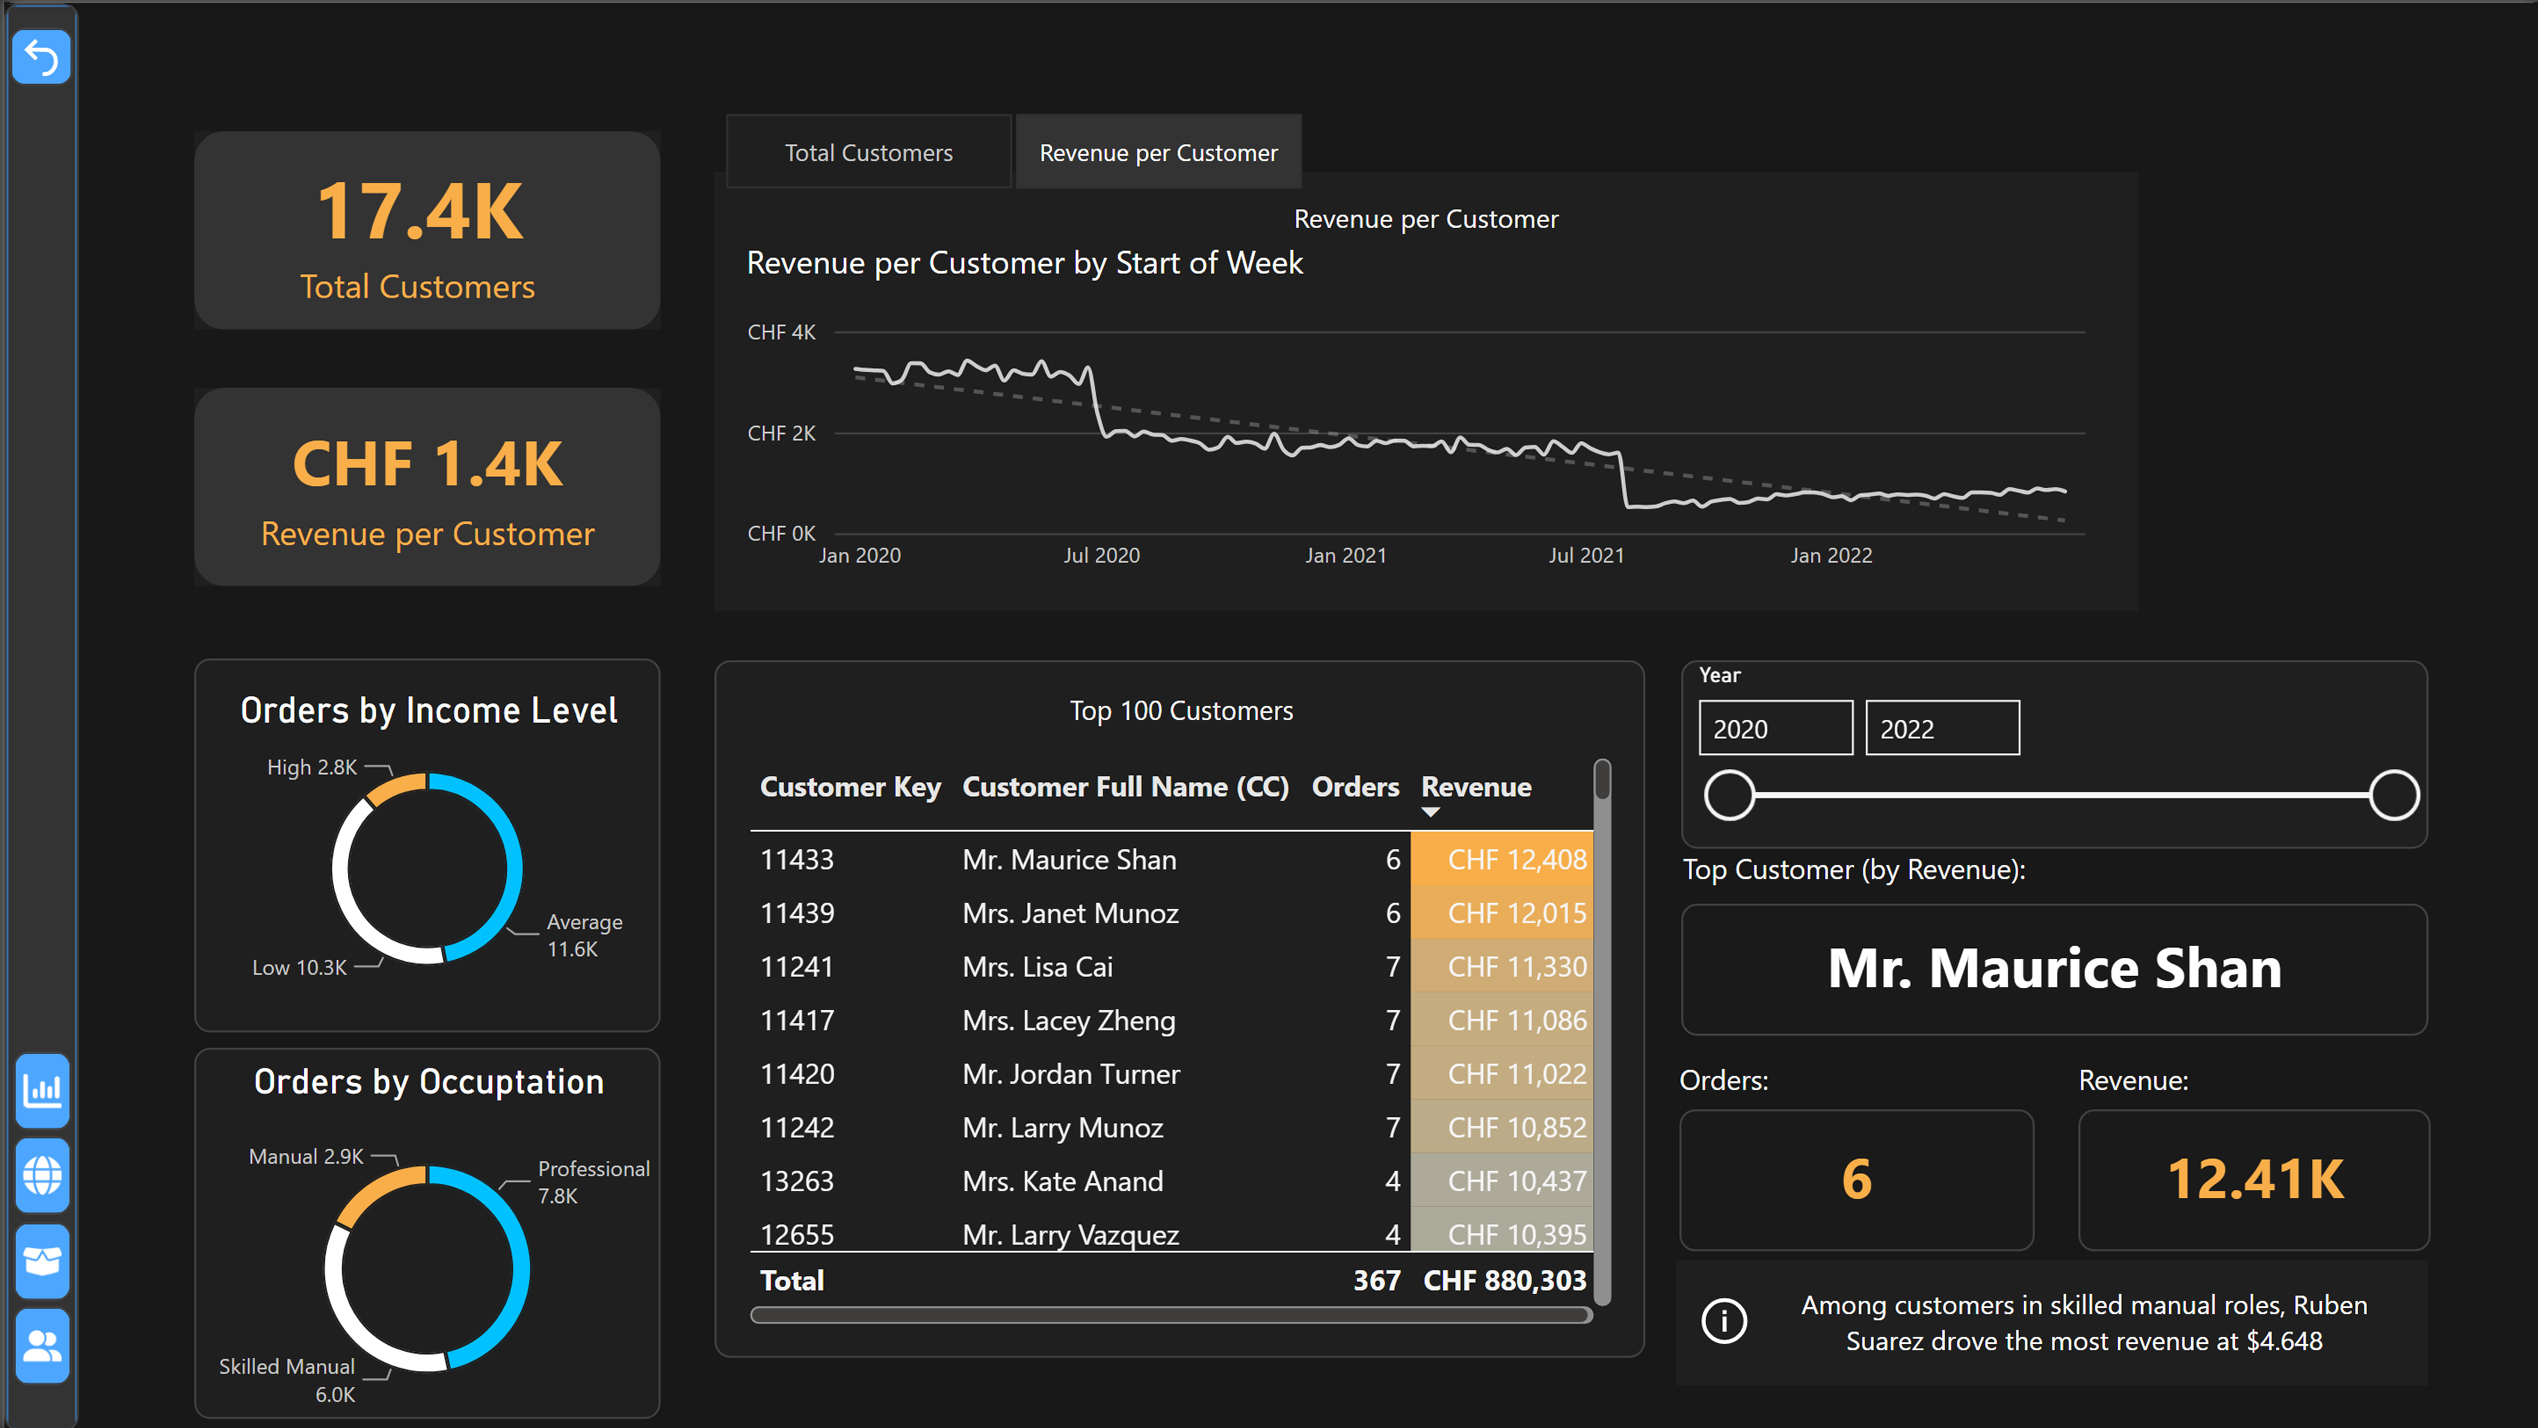

The page's visual inventory and layout, read from the dashboard file:
{"tool":"powerbi","page":{"name":"Customer Detail","canvas":[1280,720],"ordinal":3},"visuals":[{"type":"shape","title":"1. Card","box":[95.7,64.9,235,100],"z":0},{"type":"actionButton","box":[4.7,527.8,29.6,39.8],"z":0,"group":"g1"},{"type":"shape","title":"2. Card","box":[95.7,193.6,235,100],"z":1000},{"type":"actionButton","box":[4.7,570.6,29.6,39.8],"z":1000,"group":"g1"},{"type":"card","fields":{"Values":["Measure Table.Total Customers"]},"box":[106,65,204,100],"z":2000},{"type":"actionButton","box":[4.7,613.5,29.6,39.8],"z":2000,"group":"g1"},{"type":"card","fields":{"Values":["Measure Table.Average Revenue per Customer"]},"box":[95.7,179.7,235,126.6],"z":3000},{"type":"actionButton","box":[4.7,656.3,29.6,39.8],"z":3000,"group":"g1"},{"type":"lineChart","fields":{"Category":["Calendar Lookup.Date Hierarchy.Start of Year","Calendar Lookup.Date Hierarchy.Start of Month","Calendar Lookup.Date Hierarchy.Start of Week","Calendar Lookup.Date Hierarchy.Date"],"Y":["Measure Table.Average Revenue per Customer"]},"box":[357.5,85,717.5,221.2],"z":4000},{"type":"donutChart","title":"Orders by Income Level","fields":{"Category":["Customer Lookup.Income Level"],"Y":["Measure Table.Total Orders"]},"box":[95.7,330.8,235,188.2],"z":5000},{"type":"donutChart","title":"Orders by Occuptation","fields":{"Category":["Customer Lookup.Occupation"],"Y":["Measure Table.Total Orders"]},"box":[95.7,526.4,235,187.2],"z":6000},{"type":"tableEx","title":"Top 100 Customers","fields":{"Values":["Customer Lookup.CustomerKey","Customer Lookup.Customer Full Name (CC)","Measure Table.Total Orders","Measure Table.Total Revenue"]},"box":[358,331,469,351],"z":7000},{"type":"card","fields":{"Values":["Customer Lookup.Full Name (Customer Detail)"]},"box":[845,453.8,376.6,66.6],"z":8000},{"type":"card","fields":{"Values":["Measure Table.Total Orders (Customer Detail)"]},"box":[844.1,557.2,178.8,71.2],"z":9000},{"type":"card","fields":{"Values":["Measure Table.Total Revenue (Customer Detail)"]},"box":[1045.3,557.2,177.5,71.2],"z":10000},{"type":"textbox","box":[844.1,532,178.8,33.8],"z":11000},{"type":"textbox","box":[1045.3,532,178.8,33.8],"z":12000},{"type":"textbox","box":[846,426,178.8,33.8],"z":13000},{"type":"slicer","fields":{"Values":["Calendar Lookup.Year"]},"box":[845.1,331,376.5,94.4],"z":14000},{"type":"actionButton","box":[842,633,379,63],"z":15000},{"type":"shape","title":"Left Nav Background","box":[0,0,37.7,719.7],"z":16000},{"type":"actionButton","box":[2.3,12.5,31.8,29.6],"z":18000},{"type":"slicer","fields":{"Values":["Customer Metric Selection.Customer Metric Selection"]},"box":[342.5,53.8,330,41.2],"z":19001},{"type":"group","id":"g1","title":"Nav Buttons","box":[4.7,527.8,29.6,168.3],"z":19002}]}

Visuals, with their boxes on the page's 1280x720 design canvas (x1, y1, x2, y2). These are canvas units, not pixel positions in the 2538x1428 screenshot, which may show the page scaled, cropped or inside an application window:
"1. Card" shape: [left=96, top=65, right=331, bottom=165]
actionButton: [left=5, top=528, right=34, bottom=568]
"2. Card" shape: [left=96, top=194, right=331, bottom=294]
actionButton: [left=5, top=571, right=34, bottom=610]
card - Measure Table.Total Customers: [left=106, top=65, right=310, bottom=165]
actionButton: [left=5, top=614, right=34, bottom=653]
card - Measure Table.Average Revenue per Customer: [left=96, top=180, right=331, bottom=306]
actionButton: [left=5, top=656, right=34, bottom=696]
lineChart - Calendar Lookup.Date Hierarchy.Start of Year x Calendar Lookup.Date Hierarchy.Start of Month: [left=358, top=85, right=1075, bottom=306]
"Orders by Income Level" donutChart: [left=96, top=331, right=331, bottom=519]
"Orders by Occuptation" donutChart: [left=96, top=526, right=331, bottom=714]
"Top 100 Customers" tableEx: [left=358, top=331, right=827, bottom=682]
card - Customer Lookup.Full Name (Customer Detail): [left=845, top=454, right=1222, bottom=520]
card - Measure Table.Total Orders (Customer Detail): [left=844, top=557, right=1023, bottom=628]
card - Measure Table.Total Revenue (Customer Detail): [left=1045, top=557, right=1223, bottom=628]
textbox: [left=844, top=532, right=1023, bottom=566]
textbox: [left=1045, top=532, right=1224, bottom=566]
textbox: [left=846, top=426, right=1025, bottom=460]
slicer - Calendar Lookup.Year: [left=845, top=331, right=1222, bottom=425]
actionButton: [left=842, top=633, right=1221, bottom=696]
"Left Nav Background" shape: [left=0, top=0, right=38, bottom=720]
actionButton: [left=2, top=12, right=34, bottom=42]
slicer - Customer Metric Selection.Customer Metric Selection: [left=342, top=54, right=672, bottom=95]
"Nav Buttons" group: [left=5, top=528, right=34, bottom=696]
